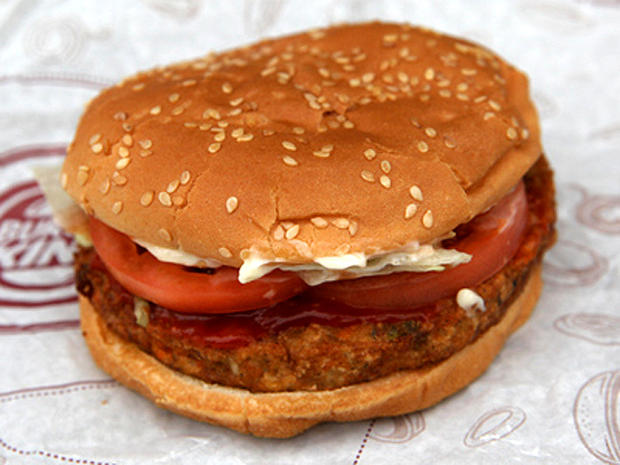hamburger_buns: (66, 11, 560, 275)
